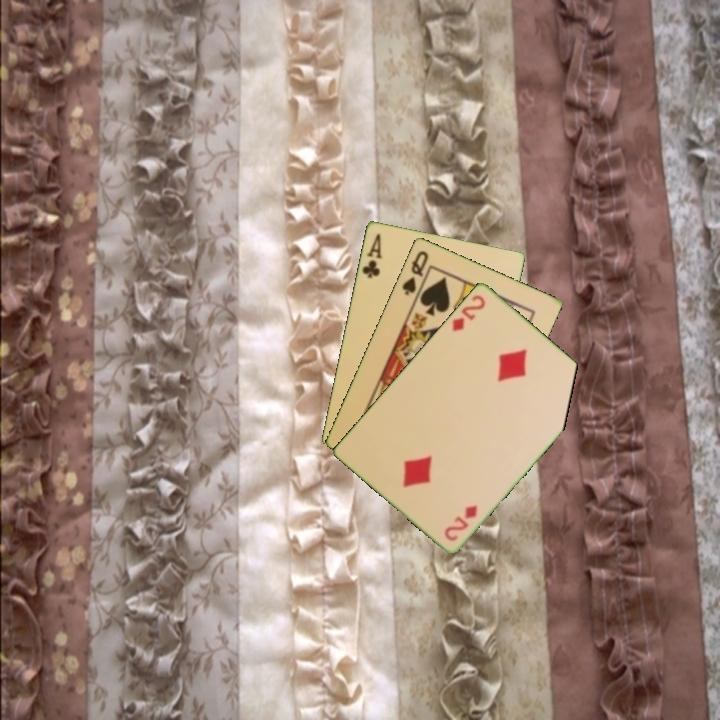2d: (448, 291, 488, 334), (441, 501, 480, 544)
Ac: (358, 230, 384, 281)
Qs: (398, 247, 431, 298)
